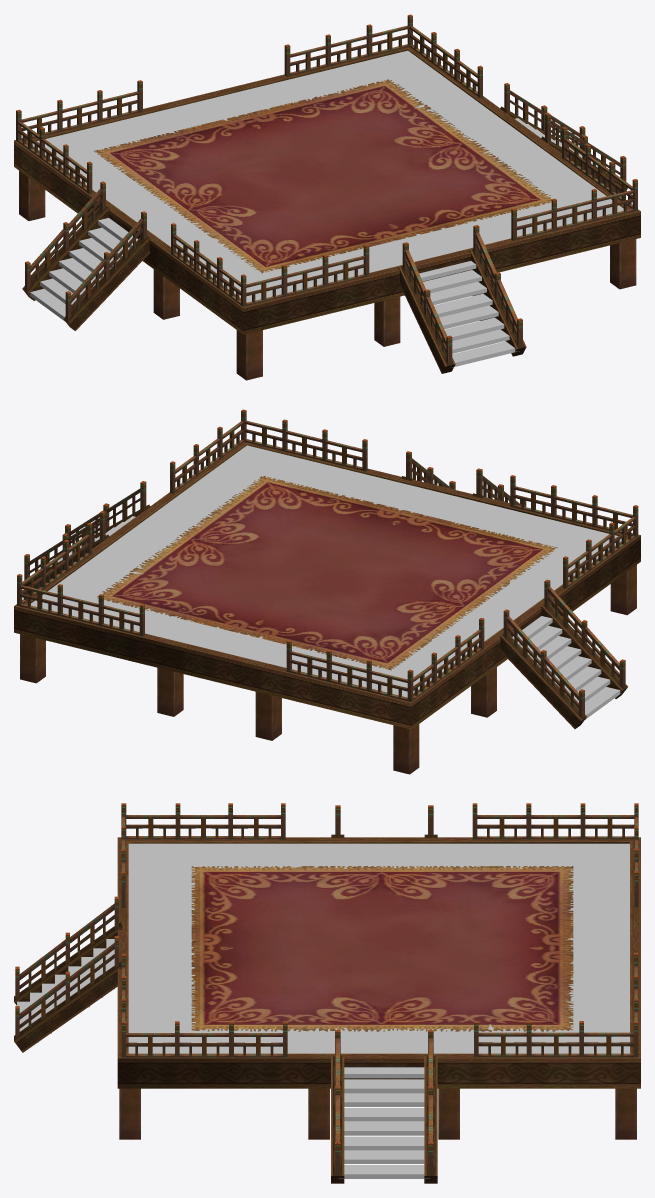
Rendered from environment_Building_biwudahui_001_c.FBX.
3 views of the same model, one above another, from view 1: azimuth 30°, elevation 25°; view 2: azimuth 150°, elevation 25°; view 3: azimuth 270°, elevation 25° (orthographic). The views are drawn at different scales.
Visible parts, largest first — view 1: environment_Building_biwudahui_001_c05, environment_Building_biwudahui_001_c04, environment_Building_biwudahui_001_c01, environment_Building_biwudahui_001_c02, environment_Building_biwudahui_001_c03; view 2: environment_Building_biwudahui_001_c05, environment_Building_biwudahui_001_c01, environment_Building_biwudahui_001_c04, environment_Building_biwudahui_001_c02, environment_Building_biwudahui_001_c03; view 3: environment_Building_biwudahui_001_c05, environment_Building_biwudahui_001_c01, environment_Building_biwudahui_001_c02, environment_Building_biwudahui_001_c04, environment_Building_biwudahui_001_c03.
Boxes of the visible parts, x1=… form: environment_Building_biwudahui_001_c05: x1=93, y1=79, x2=553, y2=273; environment_Building_biwudahui_001_c04: x1=16, y1=14, x2=637, y2=380; environment_Building_biwudahui_001_c01: x1=32, y1=50, x2=623, y2=302; environment_Building_biwudahui_001_c02: x1=14, y1=45, x2=640, y2=373; environment_Building_biwudahui_001_c03: x1=28, y1=118, x2=606, y2=367; environment_Building_biwudahui_001_c05: x1=97, y1=476, x2=557, y2=670; environment_Building_biwudahui_001_c01: x1=31, y1=445, x2=621, y2=697; environment_Building_biwudahui_001_c04: x1=17, y1=409, x2=638, y2=774; environment_Building_biwudahui_001_c02: x1=14, y1=439, x2=640, y2=729; environment_Building_biwudahui_001_c03: x1=50, y1=516, x2=621, y2=719; environment_Building_biwudahui_001_c05: x1=191, y1=866, x2=573, y2=1031; environment_Building_biwudahui_001_c01: x1=128, y1=843, x2=629, y2=1053; environment_Building_biwudahui_001_c02: x1=14, y1=834, x2=640, y2=1183; environment_Building_biwudahui_001_c04: x1=15, y1=803, x2=638, y2=1174; environment_Building_biwudahui_001_c03: x1=17, y1=939, x2=429, y2=1178.
Bounding box in the file's own units: 3786 × 3219 × 670.
